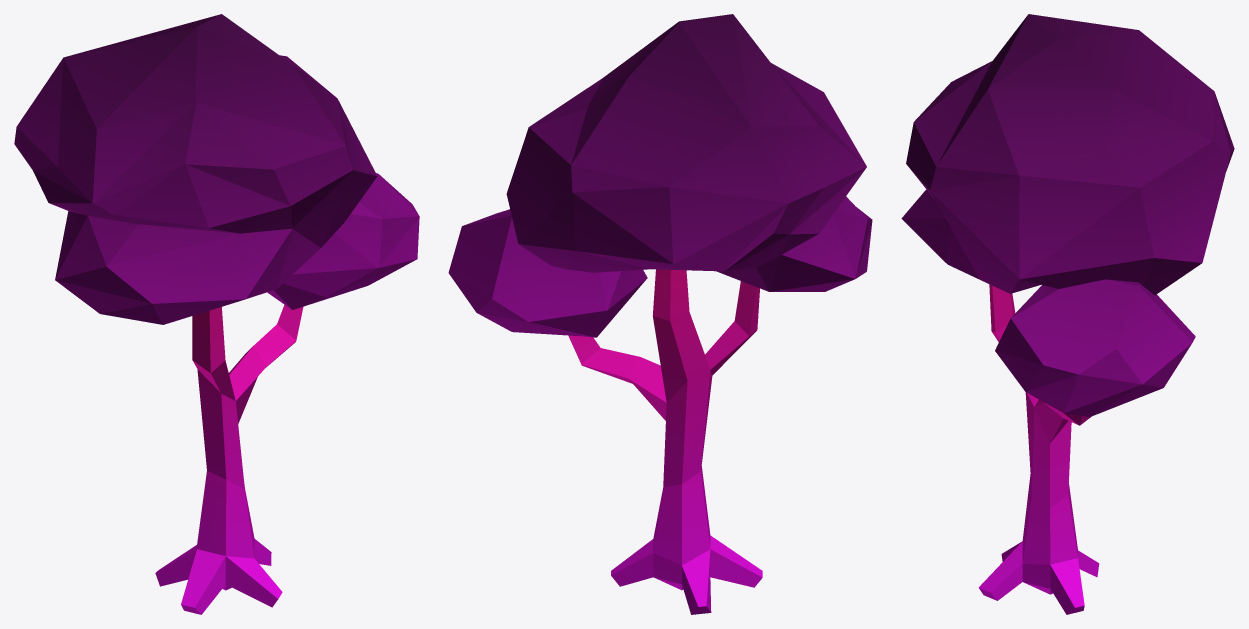
Rendered from SM_Env_Tree_Plum_01.fbx.
The picture shows the model from 3 angles, left to right: view 1: azimuth 30°, elevation 25°; view 2: azimuth 150°, elevation 25°; view 3: azimuth 270°, elevation 25°; orthographic projection. The views are drawn at different scales.
Visible parts, largest first — view 1: SM_Env_Tree_Plum_01; view 2: SM_Env_Tree_Plum_01; view 3: SM_Env_Tree_Plum_01.
Boxes of the visible parts, x1,y1,x2,y2 form: SM_Env_Tree_Plum_01: [14, 14, 419, 614]; SM_Env_Tree_Plum_01: [448, 14, 872, 614]; SM_Env_Tree_Plum_01: [901, 14, 1234, 614].
Size of the model in its own units: 252 by 374 by 201.
